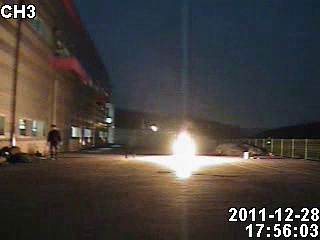fire: (163, 124, 202, 164)
